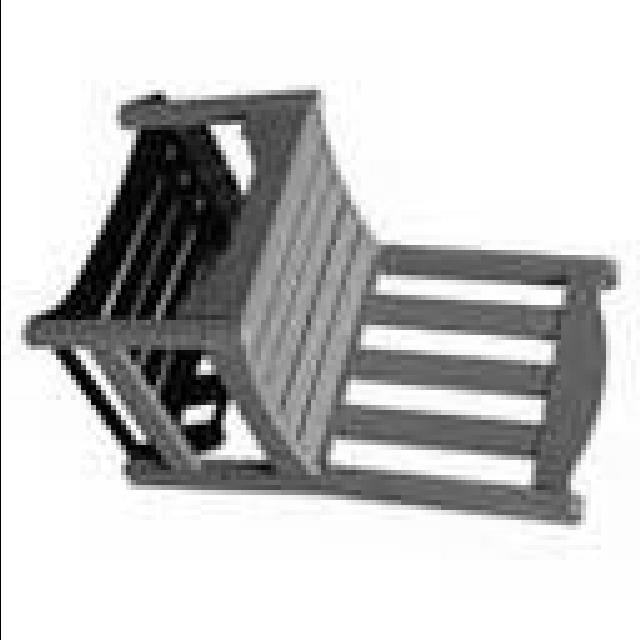chair: (24, 90, 624, 530)
